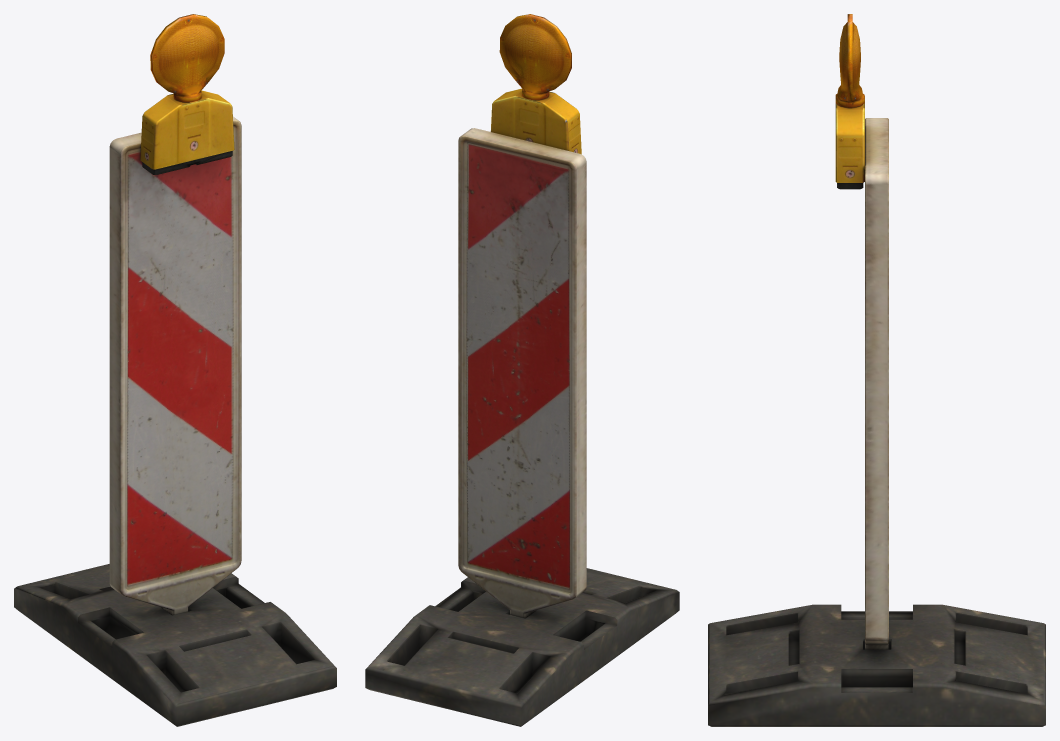
File: absperrbake_00.fbx
3 renders of one model, left to right at view 1: azimuth 30°, elevation 25°; view 2: azimuth 150°, elevation 25°; view 3: azimuth 270°, elevation 25°, orthographic. The views are drawn at different scales.
Visible parts, largest first — view 1: Mesh; view 2: Mesh; view 3: Mesh.
Boxes of the visible parts, left/top/right/bottom form: Mesh: left=14, top=14, right=336, bottom=726; Mesh: left=365, top=14, right=679, bottom=726; Mesh: left=708, top=14, right=1045, bottom=726.
Size of the model in its own units: 40 by 153 by 70.
